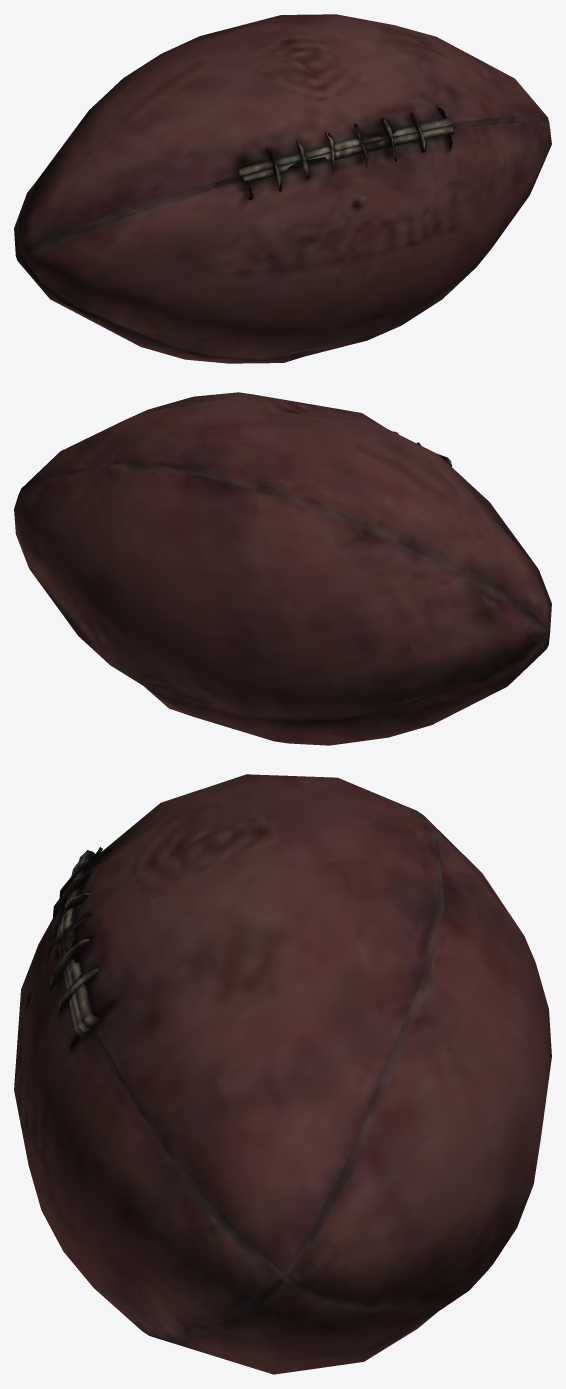
File: american_football.glb
3 renders of one model, top to bottom at view 1: azimuth 30°, elevation 25°; view 2: azimuth 150°, elevation 25°; view 3: azimuth 270°, elevation 25°, orthographic. The views are drawn at different scales.
Visible parts, largest first — view 1: american_football; view 2: american_football; view 3: american_football.
Boxes of the visible parts, x1,y1,x2,y2 form: american_football: (14, 14, 551, 363); american_football: (14, 392, 551, 745); american_football: (14, 774, 551, 1374).
Size of the model in its own units: 0.4533 by 0.2527 by 0.2526.
Materials: 1 (1 with a texture image).
